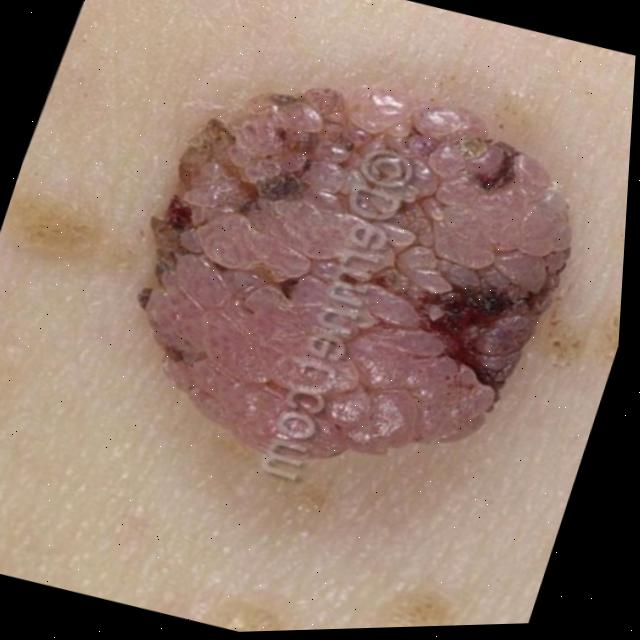Eczema: (163, 56, 601, 499)
